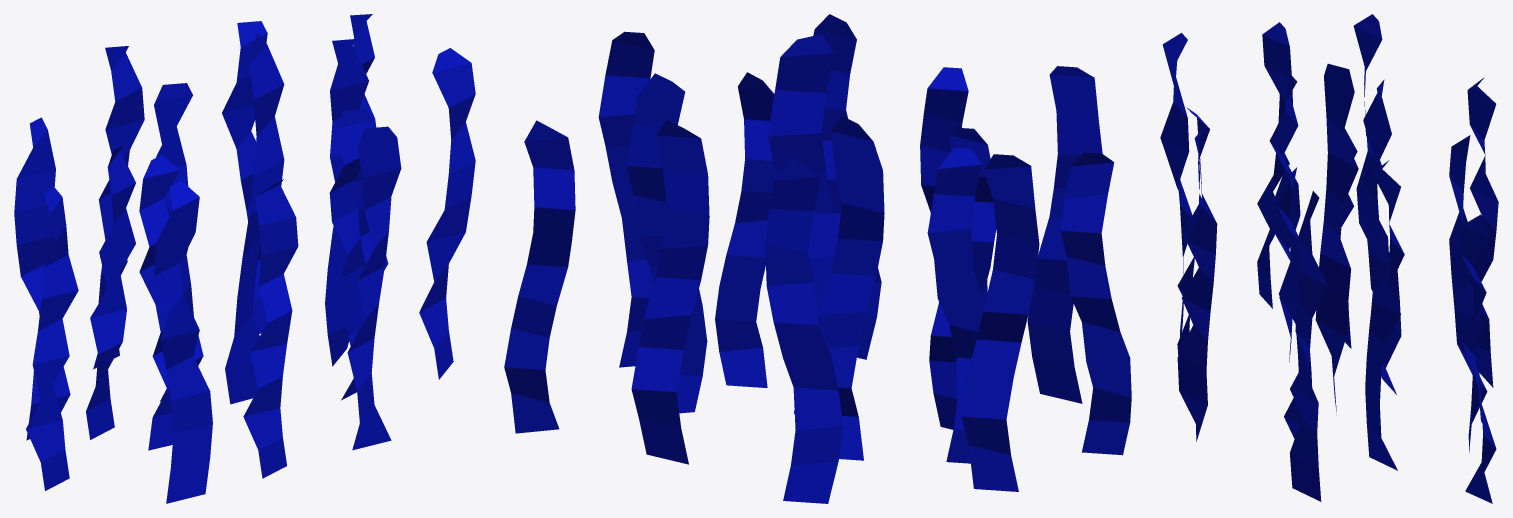
The model's file is propKelp1A.fbx.
3 views of the same model, side by side, from view 1: azimuth 30°, elevation 25°; view 2: azimuth 150°, elevation 25°; view 3: azimuth 270°, elevation 25° (orthographic). The views are drawn at different scales.
Visible parts, largest first — view 1: Kelp1A; view 2: Kelp1A; view 3: Kelp1A.
Boxes of the visible parts, bbox=[...] form: Kelp1A: bbox=[14, 14, 475, 503]; Kelp1A: bbox=[504, 14, 1131, 503]; Kelp1A: bbox=[1160, 14, 1498, 503].
Size of the model in its own units: 272 by 200 by 176.
